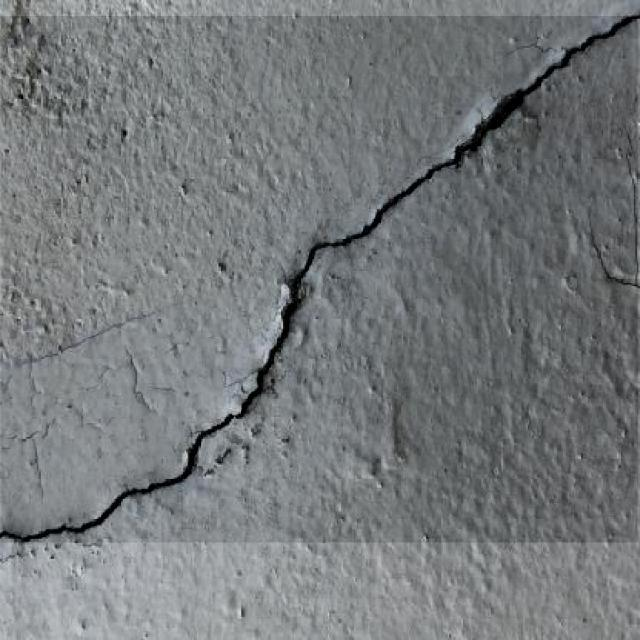diagonal crack: (1, 16, 638, 542)
